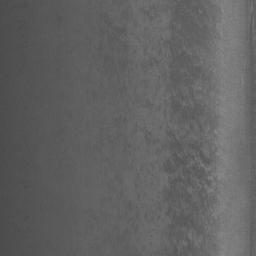Silk spot: (87, 0, 224, 256), (112, 112, 128, 128)
